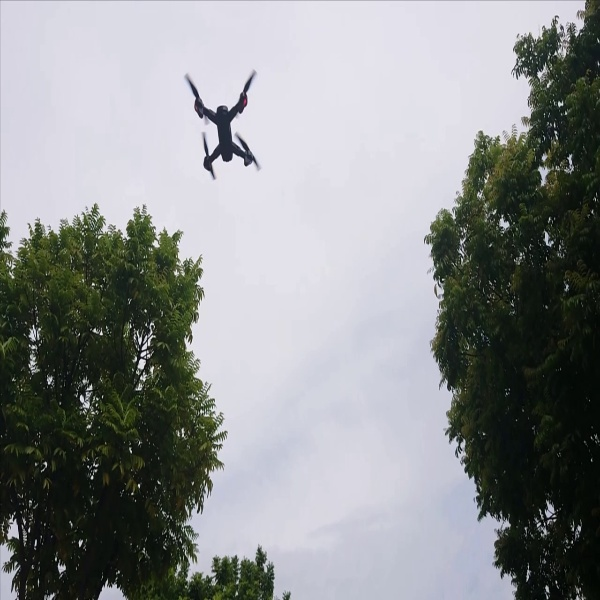drone: (170, 56, 271, 185)
